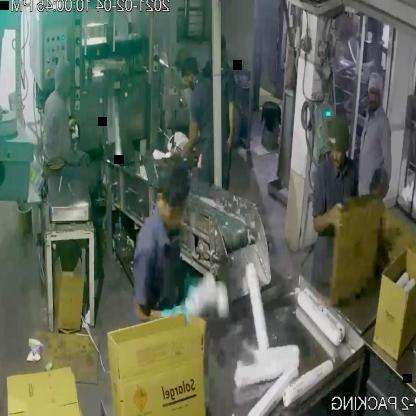no_glove: (308, 199, 348, 252), (223, 90, 240, 157), (181, 110, 201, 162)
